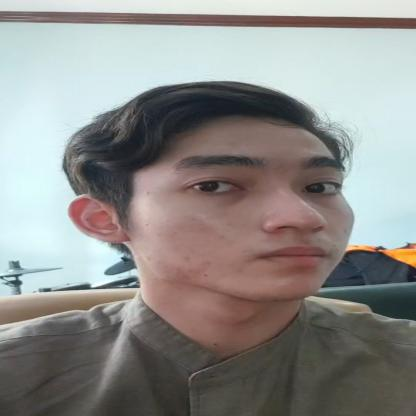Palm: (43, 63, 415, 357)
